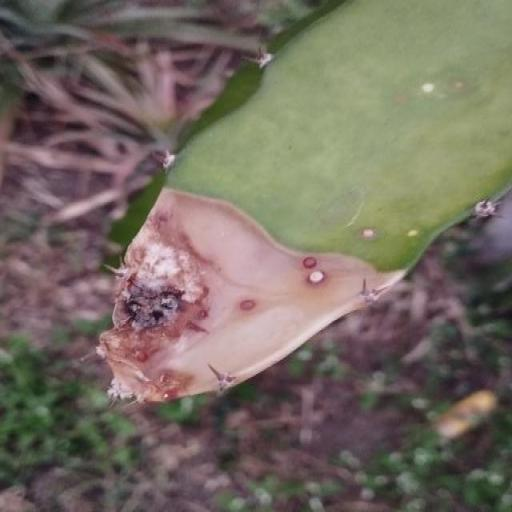stemcanker: (358, 219, 382, 246), (416, 76, 440, 97), (404, 225, 422, 242)
